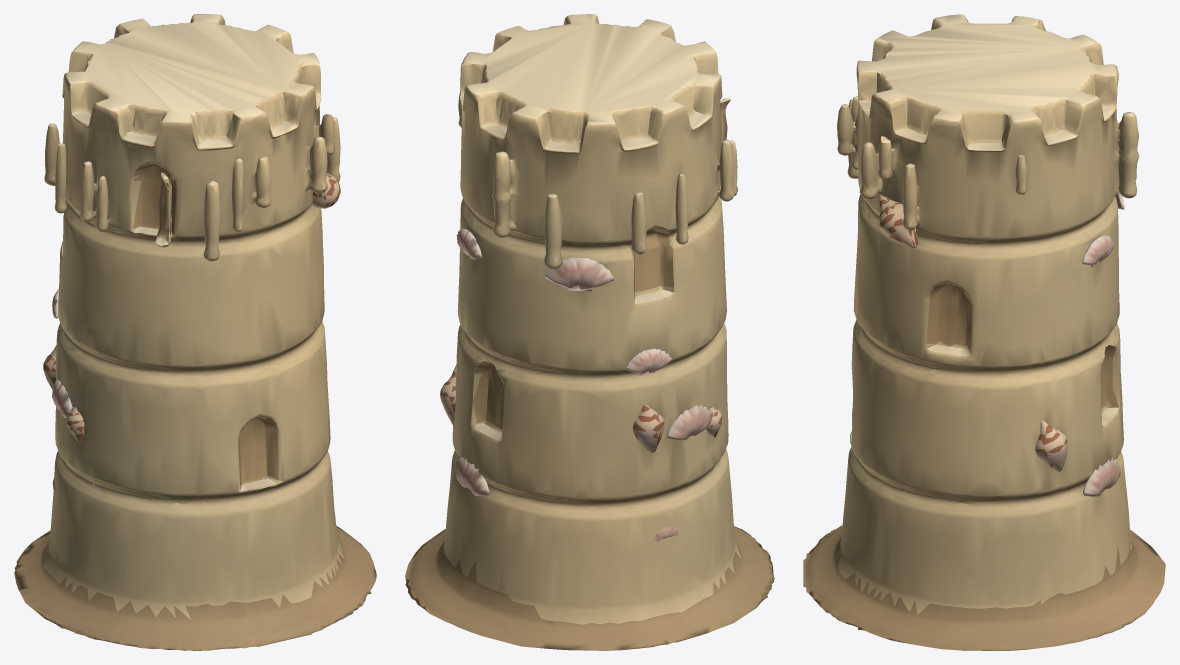
File: shore_castle_keep.glb
The picture shows the model from 3 angles, left to right: view 1: azimuth 30°, elevation 25°; view 2: azimuth 150°, elevation 25°; view 3: azimuth 270°, elevation 25°; orthographic projection.
Visible parts, largest first — view 1: shore_castle_keep; view 2: shore_castle_keep; view 3: shore_castle_keep.
Boxes of the visible parts, <box> form: shore_castle_keep: <box>14,14,376,650</box>; shore_castle_keep: <box>405,14,774,650</box>; shore_castle_keep: <box>803,14,1165,650</box>.
Size of the model in its own units: 15.58 by 24 by 15.57.
